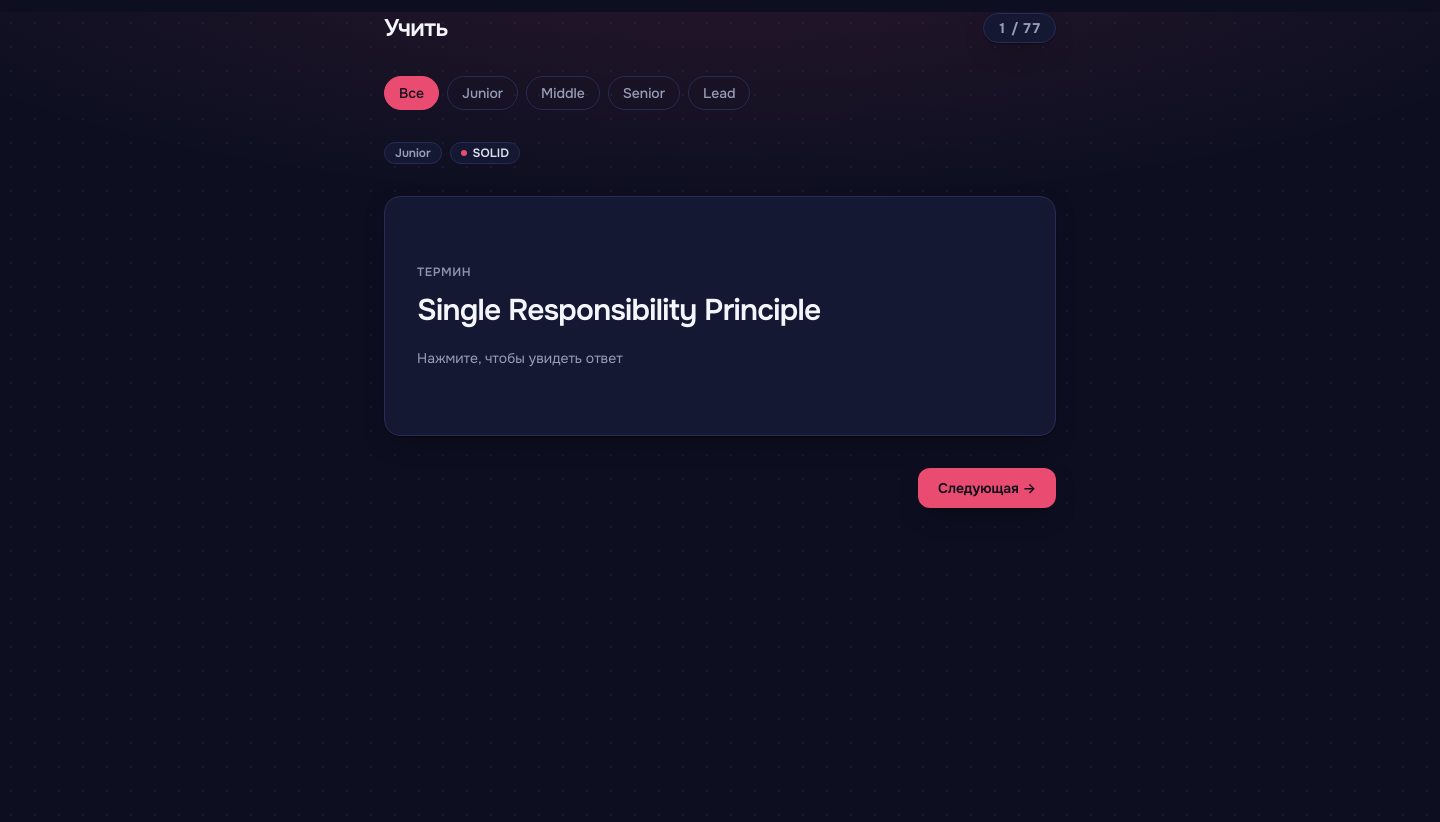
Test: Learn › reveals the code example on the flipped card via the show-code toggle
The image size is (1440, 822).
Expected: the button "показать код" is not shown
Note: Flip to the answer side
Click the button with aria-label "перевернуть" at (720, 316), box top-left (384, 196), bottom-right (1056, 436)
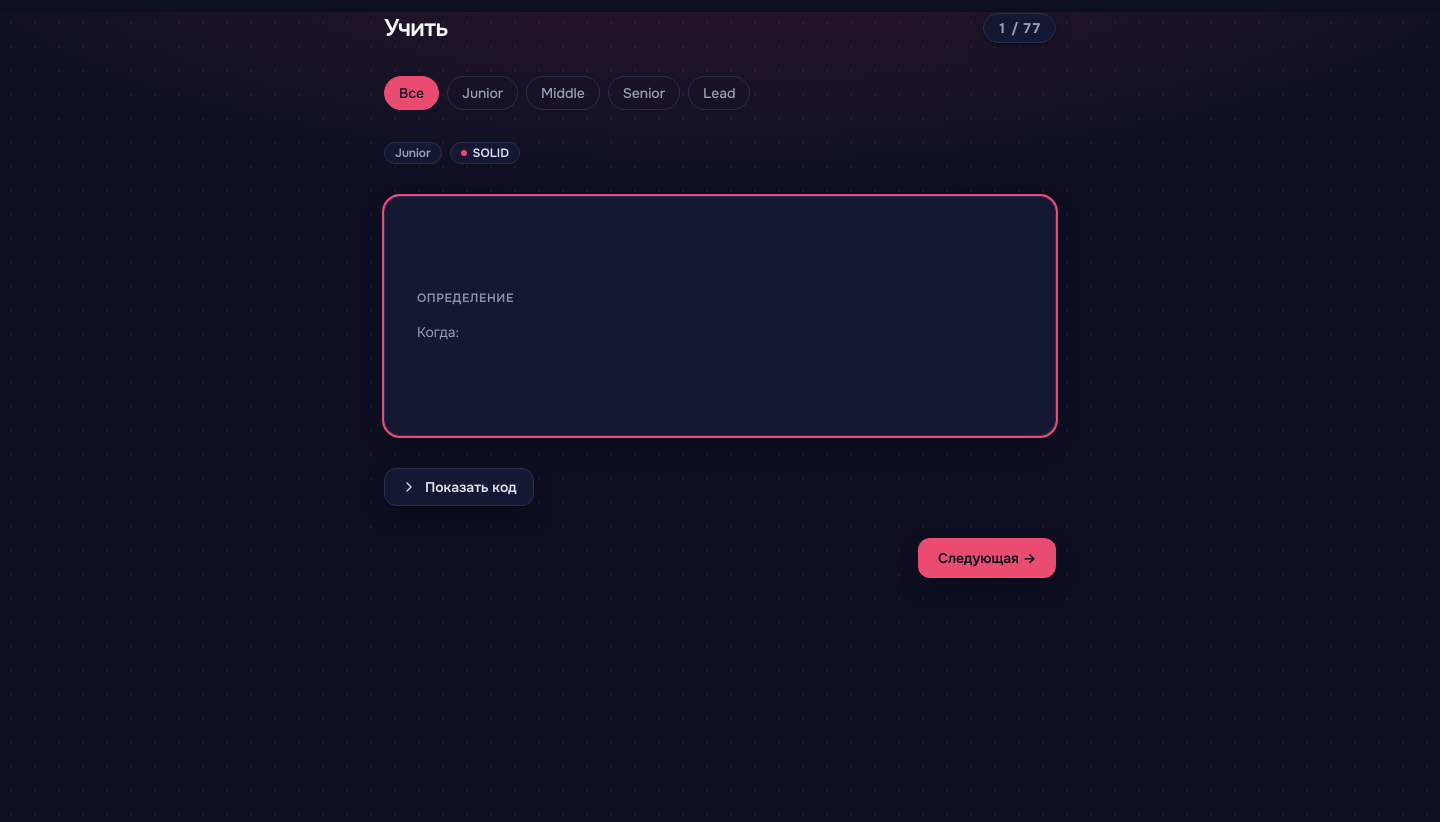
Expected: the text "TypeScript" is not shown
Note: Reveal the code
Click the button "Показать код" at (459, 487), box top-left (384, 468), bottom-right (534, 506)
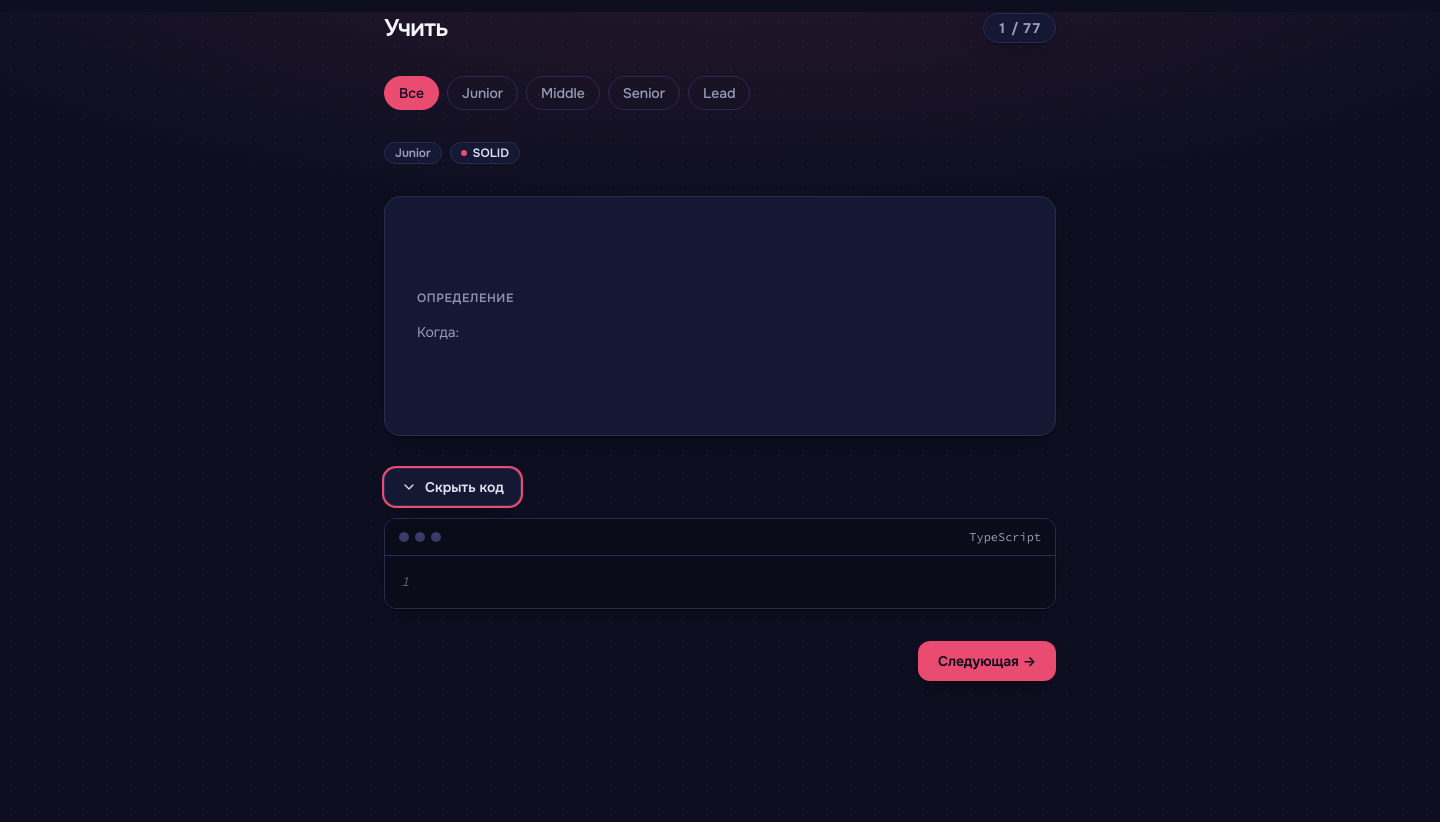
Result: the text "TypeScript" is shown at top-left (969, 529), bottom-right (1041, 545)
Note: Toggle now hides it again
Click the button "Скрыть код" at (452, 487), box top-left (384, 468), bottom-right (521, 506)
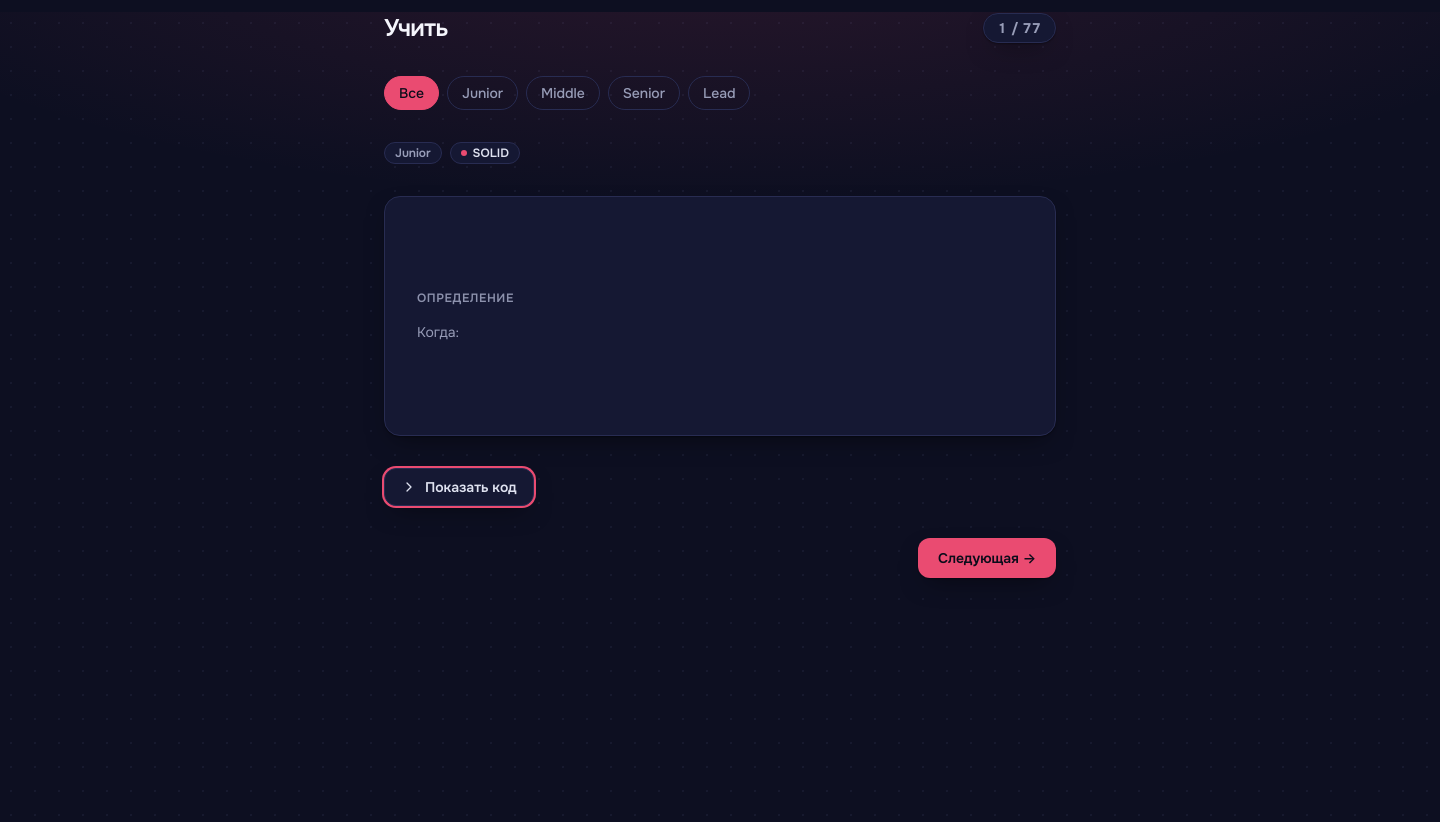
Result: the text "TypeScript" is gone
